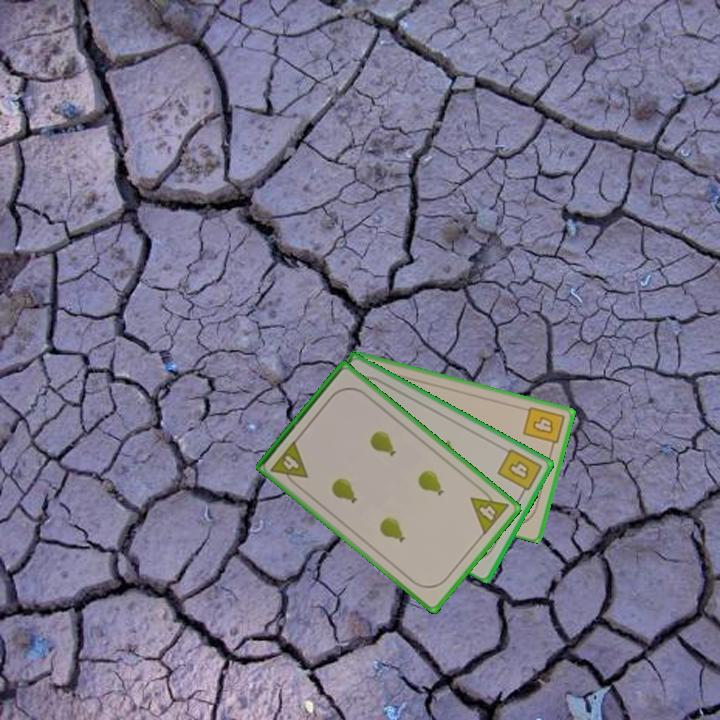4b: (494, 445, 545, 499), (519, 402, 567, 453)
4p: (467, 483, 512, 538), (267, 437, 311, 490)
